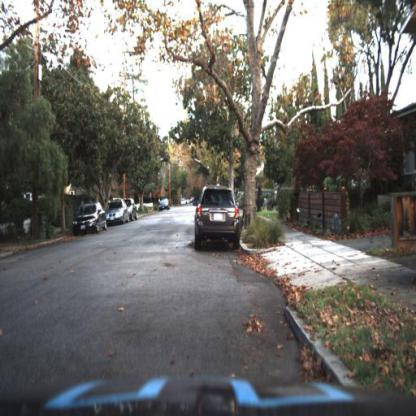car: (189, 185, 247, 256), (194, 182, 240, 252), (70, 196, 112, 249), (72, 198, 110, 242), (105, 194, 130, 230), (126, 191, 143, 225), (157, 197, 172, 215)
